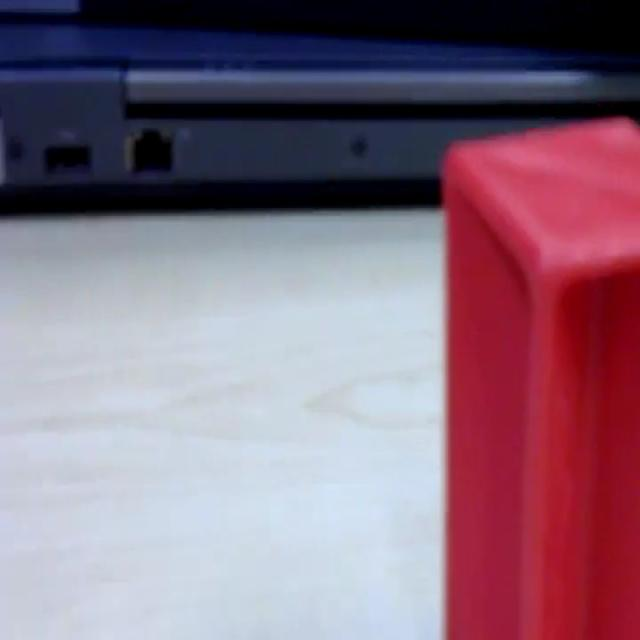red_block: (441, 113, 638, 636)
